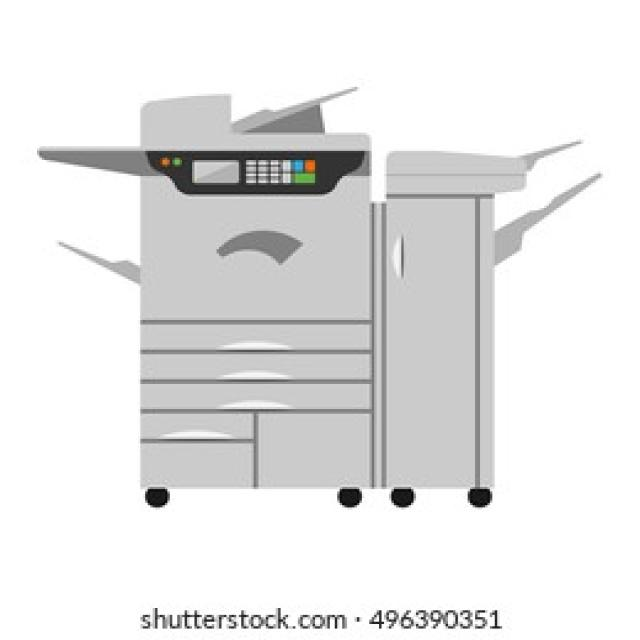printer: (34, 84, 600, 510)
